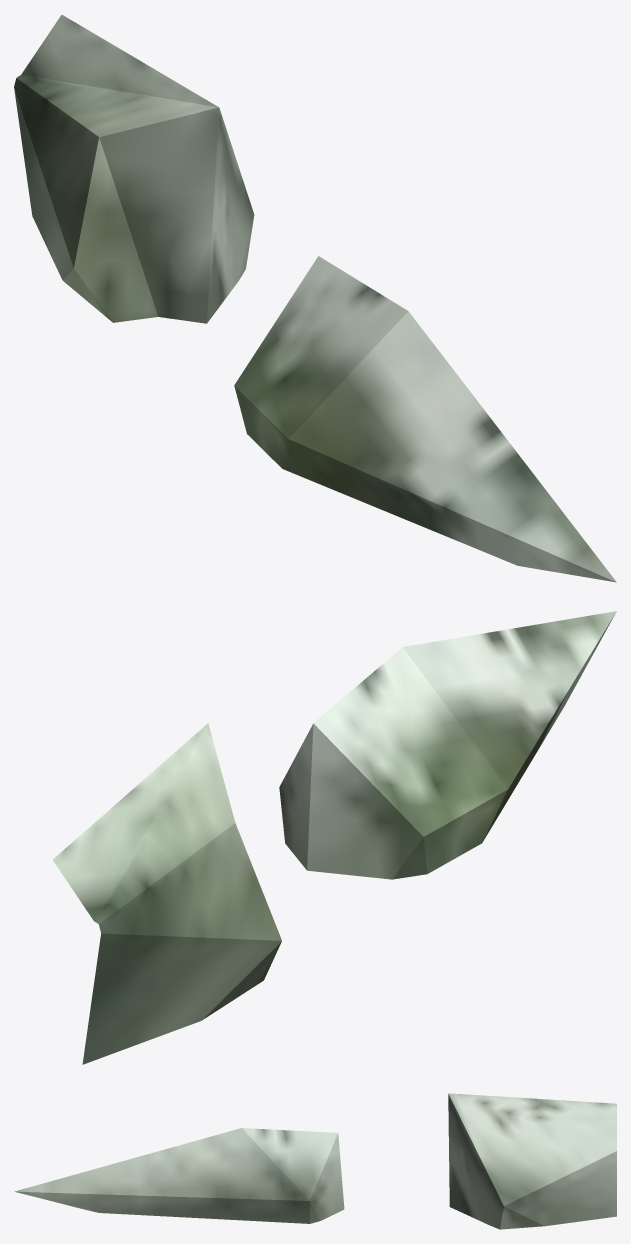
The picture shows the model from 3 angles, top to bottom: view 1: azimuth 30°, elevation 25°; view 2: azimuth 150°, elevation 25°; view 3: azimuth 270°, elevation 25°; orthographic projection. The views are drawn at different scales.
Bounding box in the file's own units: 0.2591 × 0.267 × 1.25.
Materials: 1 (1 with a texture image).
